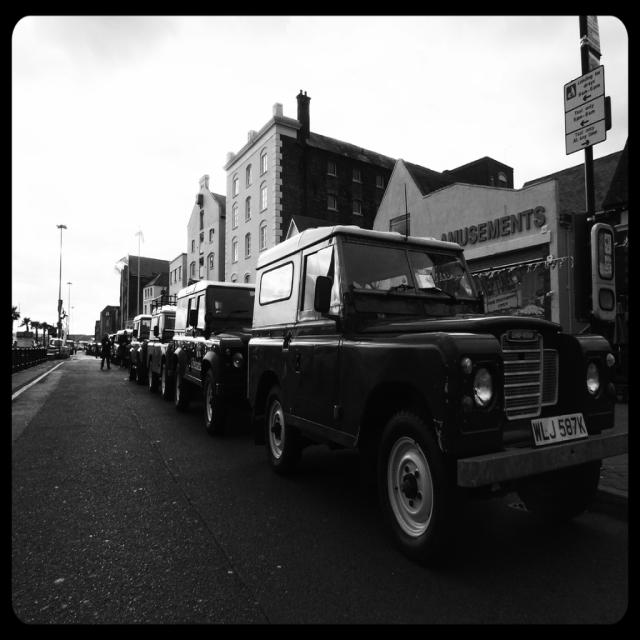car: (230, 221, 602, 548)
